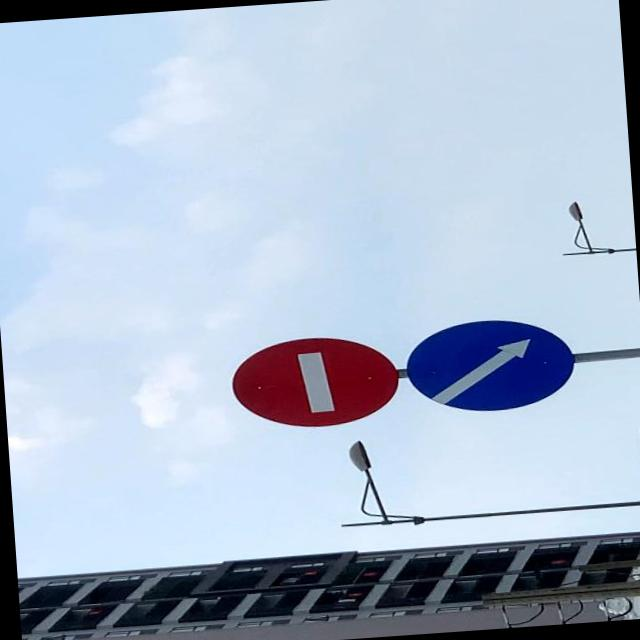P-102: (228, 330, 400, 430)
R-302a: (404, 314, 576, 416)
